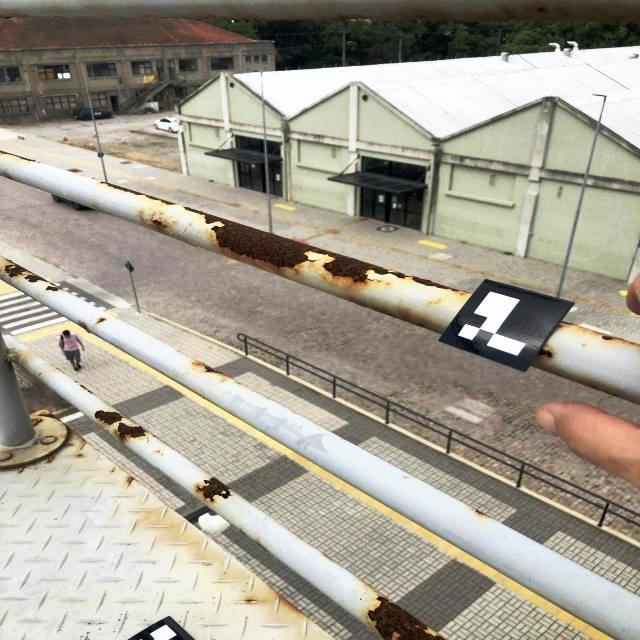Corrosion: (96, 181, 471, 294), (365, 585, 446, 640), (3, 258, 62, 293), (195, 477, 235, 501), (110, 421, 148, 443), (275, 590, 305, 614), (580, 328, 628, 342), (188, 360, 225, 377), (93, 410, 124, 425), (0, 150, 37, 162), (75, 383, 95, 394), (539, 348, 555, 358), (471, 507, 488, 516), (40, 412, 57, 419), (557, 321, 571, 326), (95, 318, 107, 323), (126, 477, 134, 483), (245, 600, 256, 603)
